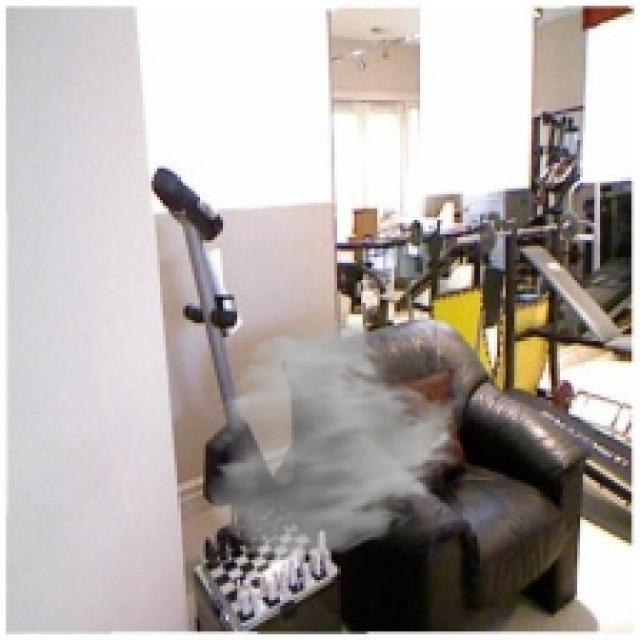Smoke: (203, 314, 472, 566)
